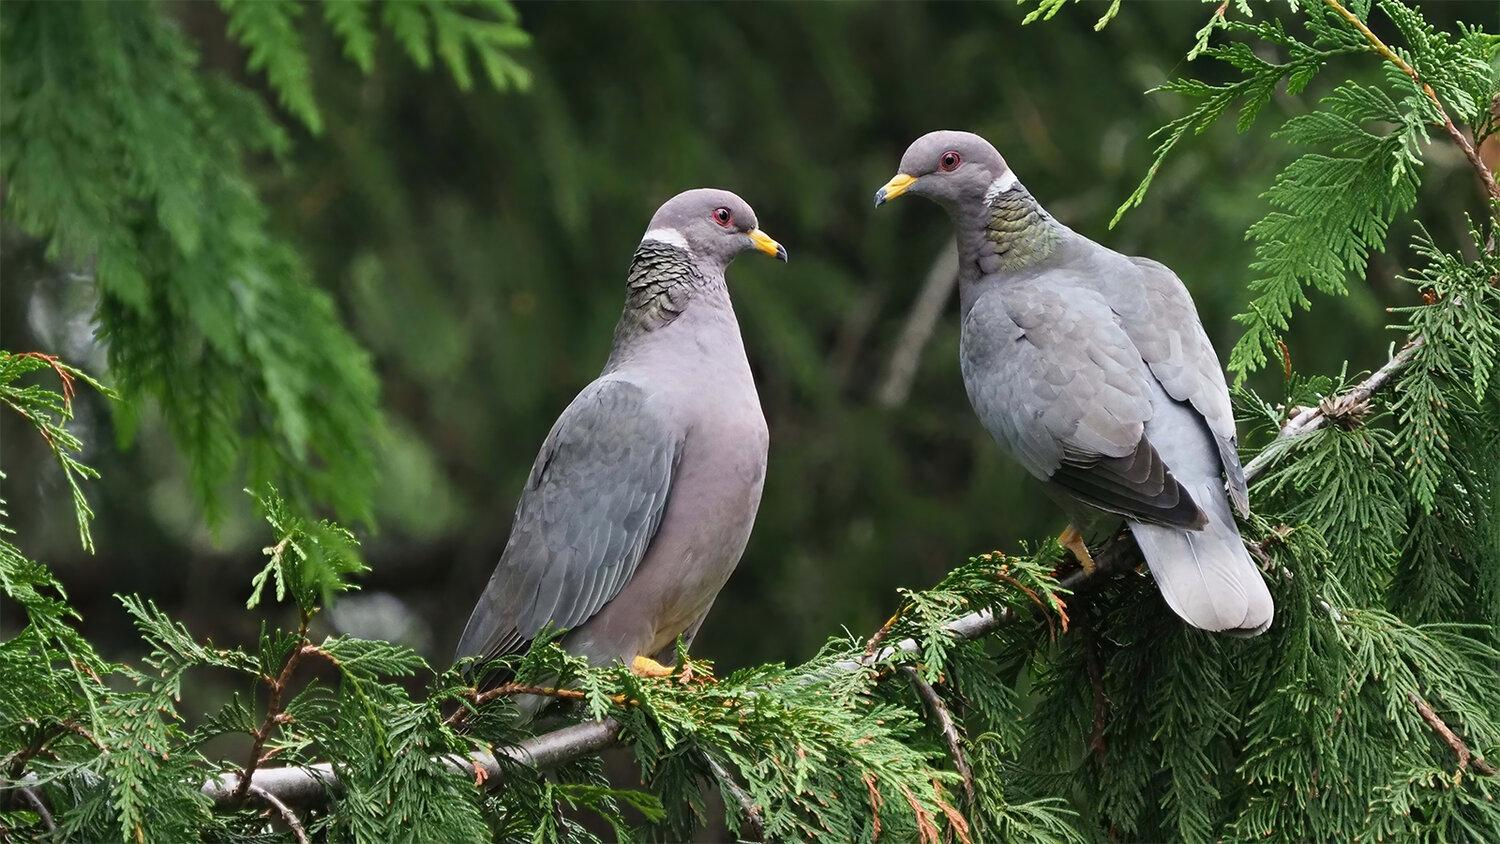Flying Rat: (871, 119, 1318, 638), (461, 168, 796, 707)
